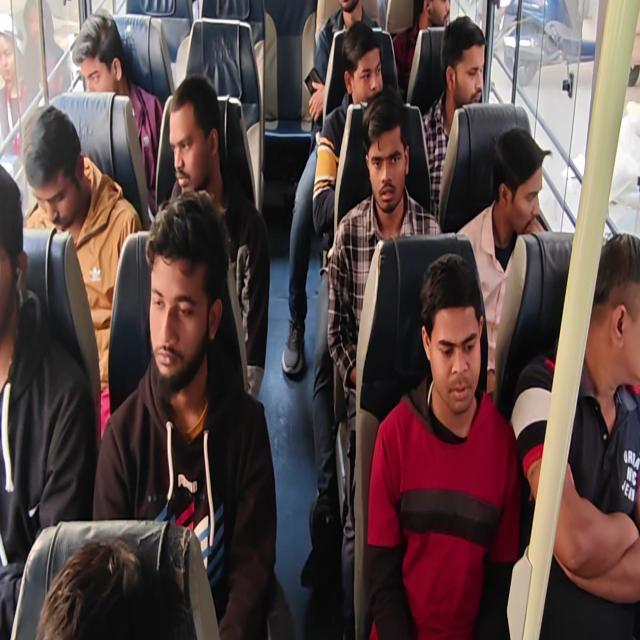person: (1, 1, 638, 638), (91, 189, 278, 638), (326, 86, 442, 636), (364, 252, 522, 638), (510, 231, 640, 638), (0, 161, 97, 638), (22, 104, 142, 439), (281, 20, 384, 376), (166, 74, 270, 401), (455, 125, 552, 399), (71, 10, 164, 214), (36, 535, 198, 639), (312, 21, 384, 237), (421, 15, 487, 218), (307, 0, 375, 152), (392, 0, 450, 96), (21, 0, 72, 100), (0, 12, 28, 157)
